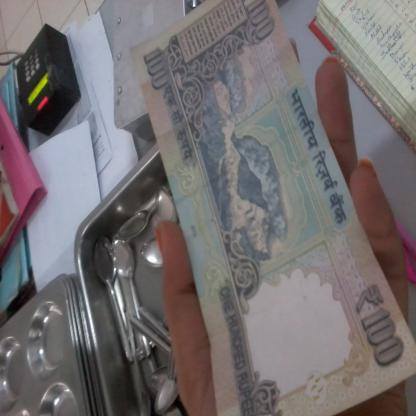Old100Back: (129, 0, 416, 416)
